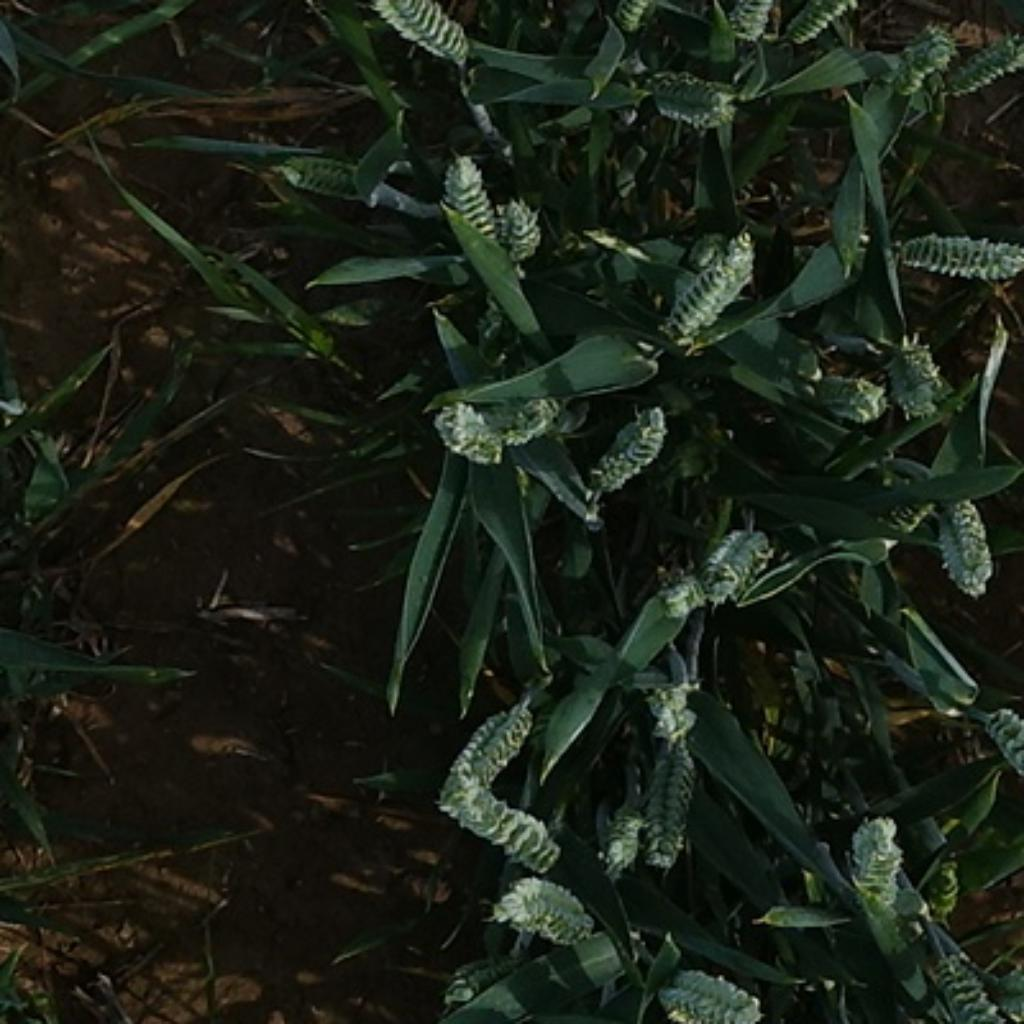0-0: (712, 217, 962, 928), (599, 711, 706, 885), (437, 773, 563, 890), (430, 688, 542, 798), (417, 386, 568, 460), (860, 455, 947, 578), (581, 399, 675, 496), (350, 0, 483, 66), (967, 686, 1024, 837), (704, 506, 793, 601), (888, 222, 1024, 284), (834, 808, 911, 911), (634, 58, 737, 135), (622, 967, 760, 1024), (926, 491, 998, 596), (424, 153, 501, 250), (491, 867, 593, 939), (880, 12, 965, 97), (911, 947, 1003, 1024), (663, 255, 733, 349), (637, 552, 711, 640), (875, 330, 952, 414), (798, 355, 890, 424), (939, 25, 1024, 94), (478, 186, 550, 263), (634, 670, 701, 750), (785, 0, 870, 43), (281, 151, 358, 189), (716, 0, 788, 40), (606, 0, 675, 33)
